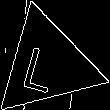L_N: (26, 35, 68, 93)
